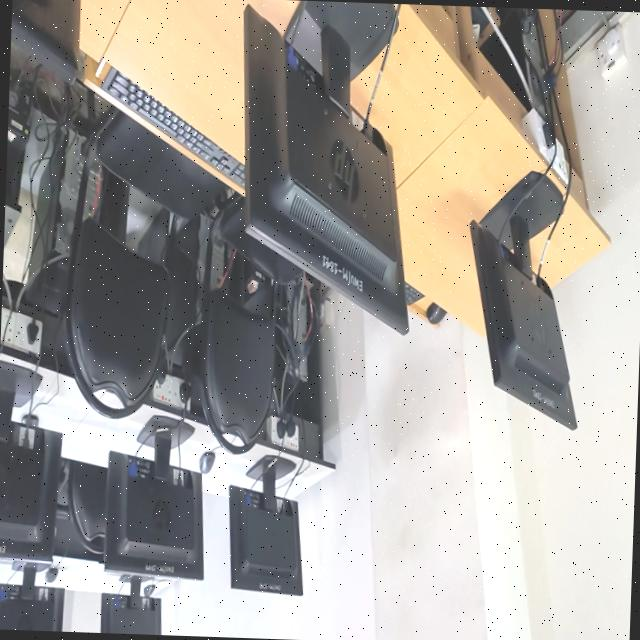Chair: (63, 105, 221, 418), (199, 282, 275, 452), (213, 192, 300, 283), (67, 460, 106, 552)
Cpu: (24, 126, 83, 296), (479, 6, 544, 110), (285, 276, 309, 380)
Monitor: (242, 0, 406, 332), (468, 170, 575, 429), (103, 427, 202, 579), (228, 457, 301, 594), (0, 427, 60, 559), (100, 577, 160, 635), (0, 584, 54, 631), (54, 589, 63, 631)
Mouse: (425, 301, 445, 323), (198, 450, 214, 473), (20, 412, 37, 428), (44, 567, 57, 582), (143, 582, 154, 596)
